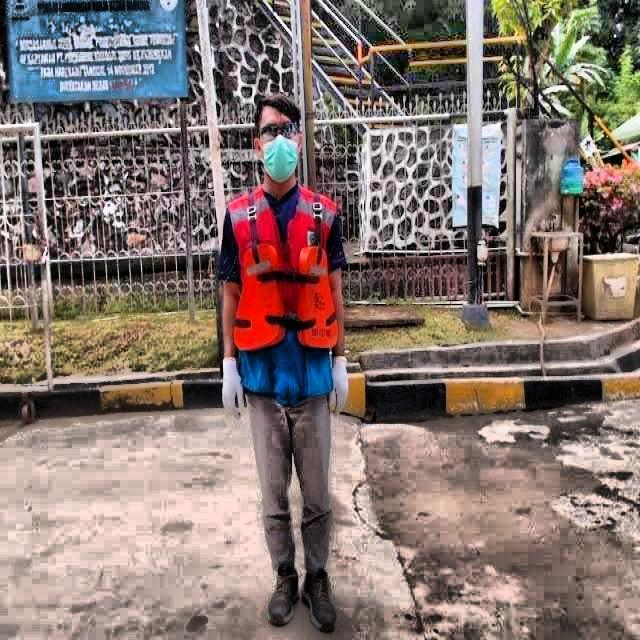safety_jacket: (227, 183, 336, 401)
